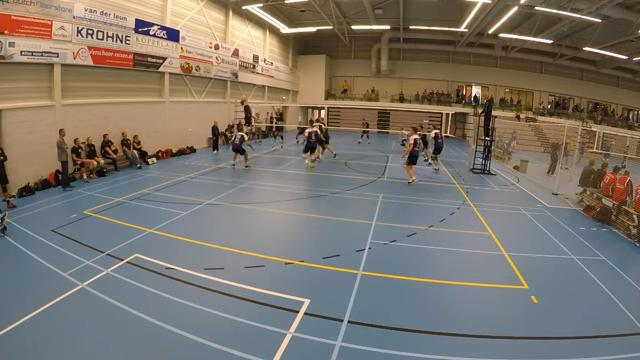Attack: (233, 93, 260, 145)
Block: (268, 95, 290, 154)
Player: (231, 124, 254, 168), (402, 127, 419, 183), (302, 121, 322, 168), (313, 118, 336, 158), (431, 130, 443, 172), (420, 125, 431, 165), (358, 119, 369, 143), (296, 120, 305, 143), (400, 128, 408, 146)
